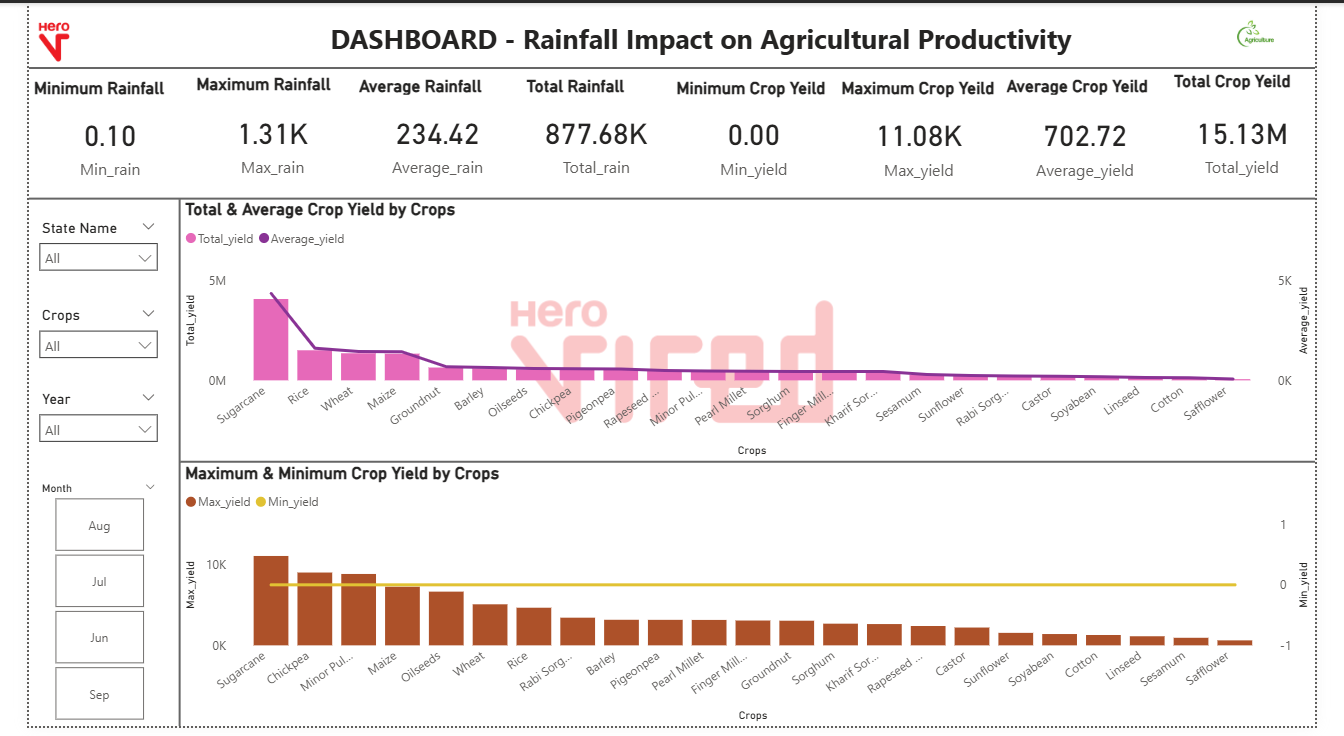

The page's visual inventory and layout, read from the dashboard file:
{"tool":"powerbi","page":{"name":"Final Dashboard-6","canvas":[1280,720],"ordinal":5},"visuals":[{"type":"shape","box":[0,47.3,1280,34.8],"z":0},{"type":"image","box":[0,0,51,74.6],"z":1000},{"type":"textbox","box":[287.4,12.4,760.1,48.5],"z":2000},{"type":"slicer","fields":{"Values":["Dim_year.Year"]},"box":[0,380.7,138.1,64.7],"z":3000},{"type":"slicer","fields":{"Values":["Dim_crop.Crops"]},"box":[0,297.3,138.1,62.2],"z":4000},{"type":"slicer","fields":{"Values":["Dim_state.State Name"]},"box":[0,210.2,138.1,62.2],"z":5000},{"type":"shape","box":[0,179.1,1280,31.1],"z":6000},{"type":"shape","box":[150.5,436.6,1129.5,39.8],"z":7000},{"type":"slicer","fields":{"Values":["Dim_rain_month.Month"]},"box":[0,471.5,138.1,248.8],"z":8000},{"type":"shape","box":[138.1,195.3,23.6,525],"z":9000},{"type":"card","title":"Average Crop Yeild","fields":{"Values":["All_Measures.Average_yeild"]},"box":[967.8,72.1,166.7,119.4],"z":10000},{"type":"card","title":"Average Rainfall","fields":{"Values":["All_Measures.Average_rain"]},"box":[323.4,72.1,166.7,114.4],"z":11000},{"type":"card","title":"Total Crop Yeild","fields":{"Values":["All_Measures.Total_yeild"]},"box":[1134.5,67.2,145.5,124.4],"z":12000},{"type":"card","title":"Maximum Crop Yeild","fields":{"Values":["All_Measures.Max_yeild"]},"box":[803.6,74.6,164.2,114.4],"z":13000},{"type":"card","title":"Minimum Crop Yeild","fields":{"Values":["All_Measures.Min_yeild"]},"box":[639.4,74.6,164.2,112],"z":14000},{"type":"card","title":"Total Rainfall","fields":{"Values":["All_Measures.Total_rain"]},"box":[490.1,72.1,149.3,114.4],"z":15000},{"type":"card","title":"Maximum Rainfall","fields":{"Values":["All_Measures.Max_rain"]},"box":[161.7,70.9,161.7,116.9],"z":16000},{"type":"card","title":"Minimum Rainfall","fields":{"Values":["All_Measures.Min_rain"]},"box":[0,74.6,161.7,113.2],"z":17000},{"type":"image","box":[1160.6,0,119.4,61],"z":18000},{"type":"lineStackedColumnComboChart","title":"Total & Average Crop Yield by Crops","fields":{"Category":["Dim_crop.Crops"],"Y":["All_Measures.Total_yeild"],"Y2":["All_Measures.Average_yeild"]},"box":[150.5,195.3,1129.5,261.2],"z":19000},{"type":"lineStackedColumnComboChart","title":"Maximum & Minimum Crop Yield by Crops","fields":{"Y2":["All_Measures.Min_yeild"],"Y":["All_Measures.Max_yeild"],"Category":["Dim_crop.Crops"]},"box":[150.5,457.8,1129.5,262.5],"z":20000}]}

Visuals, with their boxes in screenshot pixels (x1, y1, x2, y2), scaled from the page's 1280x720 canvas onto the 1344x736 screenshot:
shape: <region>0, 48, 1343, 84</region>
image: <region>0, 0, 54, 76</region>
textbox: <region>302, 13, 1100, 62</region>
slicer - Dim_year.Year: <region>0, 389, 145, 455</region>
slicer - Dim_crop.Crops: <region>0, 304, 145, 367</region>
slicer - Dim_state.State Name: <region>0, 215, 145, 278</region>
shape: <region>0, 183, 1343, 215</region>
shape: <region>158, 446, 1343, 487</region>
slicer - Dim_rain_month.Month: <region>0, 482, 145, 735</region>
shape: <region>145, 200, 170, 735</region>
"Average Crop Yeild" card: <region>1016, 74, 1191, 196</region>
"Average Rainfall" card: <region>340, 74, 515, 191</region>
"Total Crop Yeild" card: <region>1191, 69, 1343, 196</region>
"Maximum Crop Yeild" card: <region>844, 76, 1016, 193</region>
"Minimum Crop Yeild" card: <region>671, 76, 844, 191</region>
"Total Rainfall" card: <region>515, 74, 671, 191</region>
"Maximum Rainfall" card: <region>170, 72, 340, 192</region>
"Minimum Rainfall" card: <region>0, 76, 170, 192</region>
image: <region>1219, 0, 1343, 62</region>
"Total & Average Crop Yield by Crops" lineStackedColumnComboChart: <region>158, 200, 1343, 467</region>
"Maximum & Minimum Crop Yield by Crops" lineStackedColumnComboChart: <region>158, 468, 1343, 735</region>
